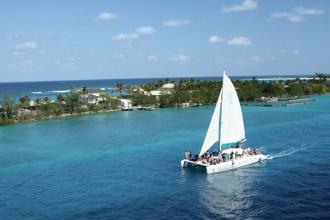fanchuan: (182, 72, 267, 170)
